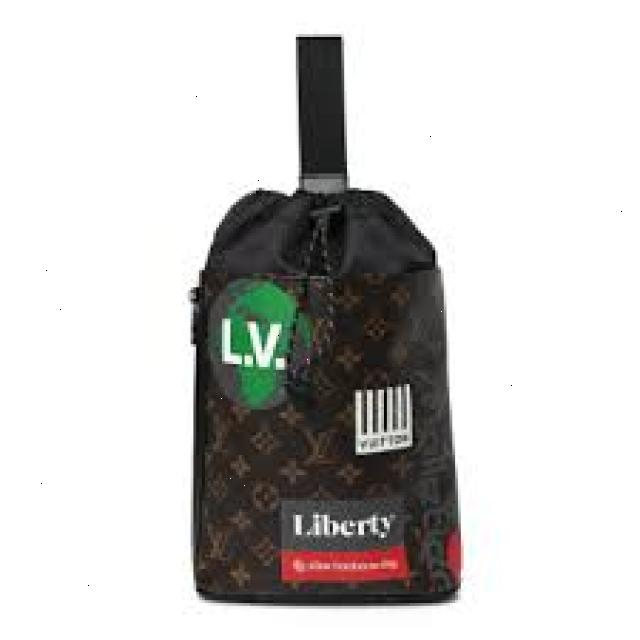backpack: (161, 184, 481, 616)
